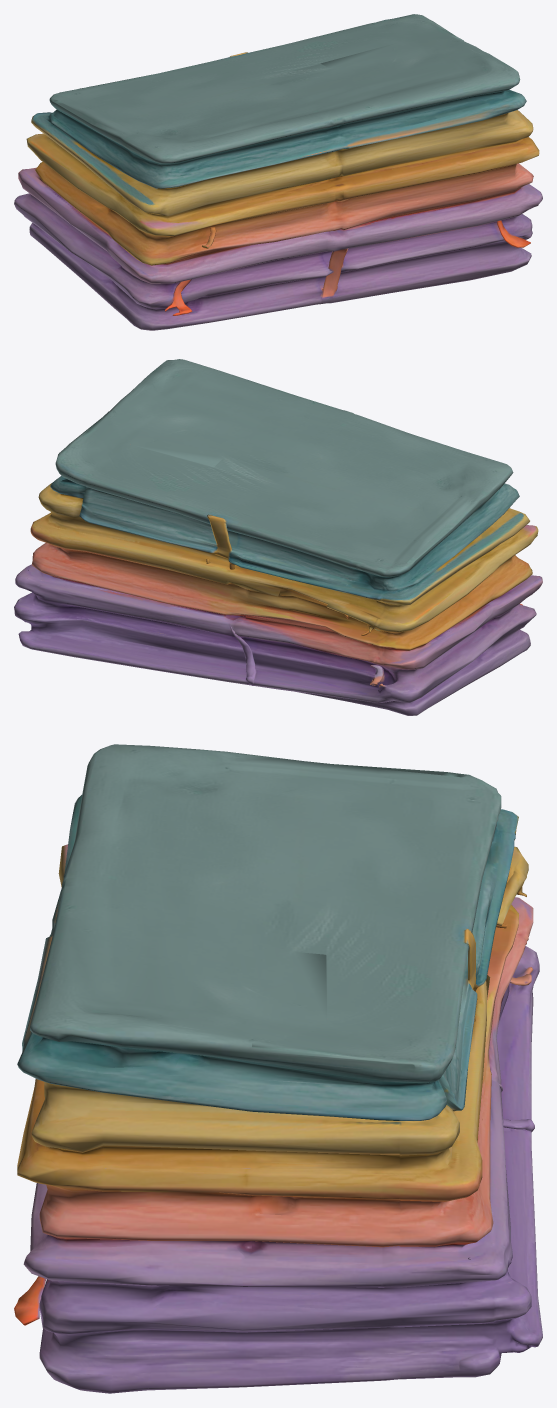
The model's file is 0a28e52c-3ac2-49b4-9410-d893b3d61490-pbr_model.glb.
The picture shows the model from 3 angles, top to bottom: view 1: azimuth 30°, elevation 25°; view 2: azimuth 150°, elevation 25°; view 3: azimuth 270°, elevation 25°; orthographic projection. The views are drawn at different scales.
Visible parts, largest first — view 1: tripo_node_0a28e52c-3ac2-49b4-9410-d893b3d61490; view 2: tripo_node_0a28e52c-3ac2-49b4-9410-d893b3d61490; view 3: tripo_node_0a28e52c-3ac2-49b4-9410-d893b3d61490.
Part boxes in pixels (x1,y1,x2,y2): tripo_node_0a28e52c-3ac2-49b4-9410-d893b3d61490: (14, 14, 542, 330); tripo_node_0a28e52c-3ac2-49b4-9410-d893b3d61490: (14, 359, 542, 715); tripo_node_0a28e52c-3ac2-49b4-9410-d893b3d61490: (14, 744, 542, 1393).
Bounding box in the file's own units: 0.6194 × 0.3 × 0.402.
Materials: 1 (1 with a texture image).
